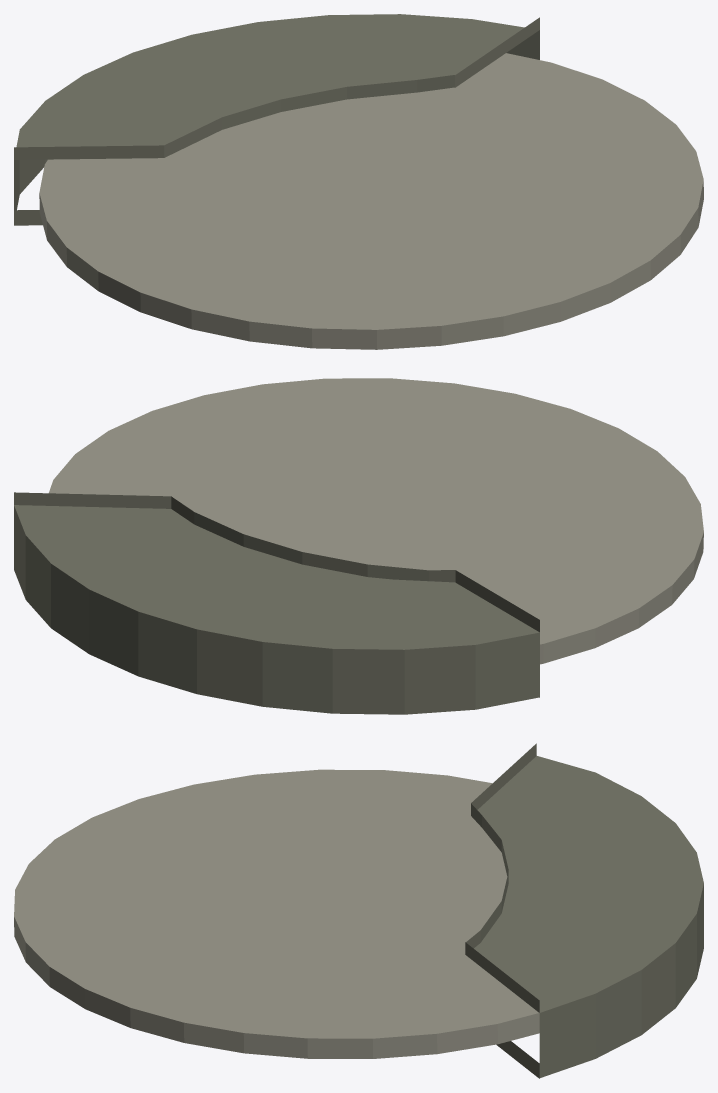
File: Guage.fbx
3 renders of one model, top to bottom at view 1: azimuth 30°, elevation 25°; view 2: azimuth 150°, elevation 25°; view 3: azimuth 270°, elevation 25°, orthographic.
Visible parts, largest first — view 1: Cylinder.002, Cylinder.001; view 2: Cylinder.002, Cylinder.001; view 3: Cylinder.002, Cylinder.001.
Boxes of the visible parts, x1,y1,x2,y2 form: Cylinder.002: (39, 53, 703, 349); Cylinder.001: (14, 14, 539, 225); Cylinder.002: (49, 378, 703, 664); Cylinder.001: (14, 492, 539, 714); Cylinder.002: (14, 769, 539, 1058); Cylinder.001: (465, 743, 703, 1078).
Bounding box in the file's own units: 1.79 × 0.2476 × 1.86.
